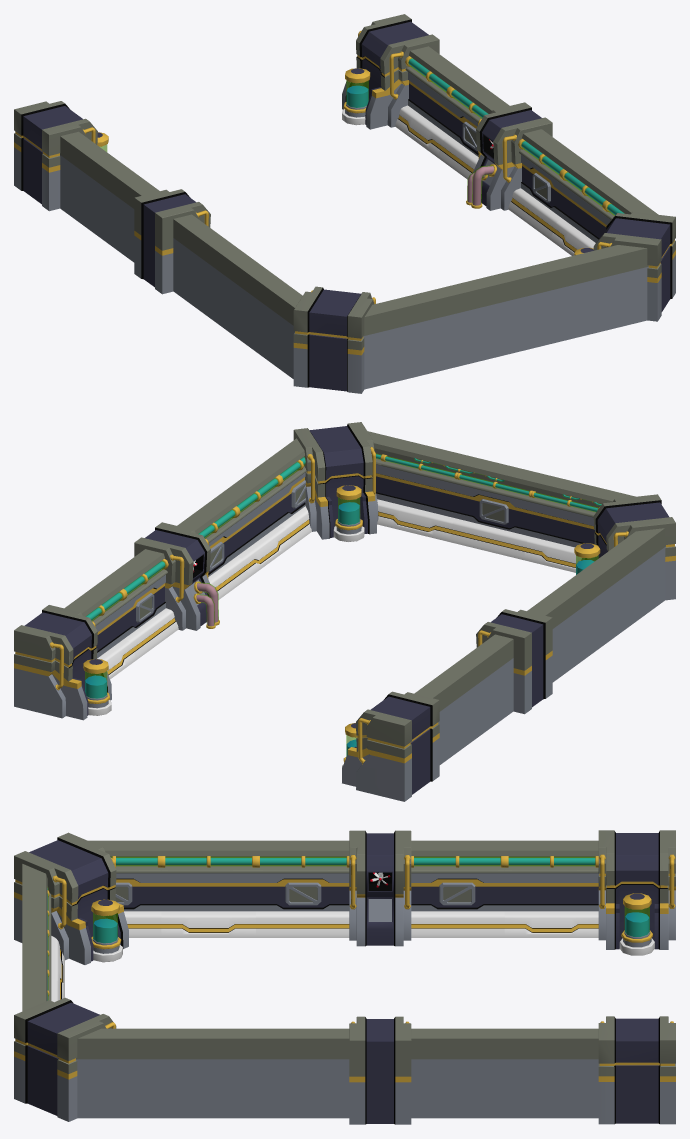
File: Level12.fbx
The picture shows the model from 3 angles, top to bottom: view 1: azimuth 30°, elevation 25°; view 2: azimuth 150°, elevation 25°; view 3: azimuth 270°, elevation 25°; orthographic projection. The views are drawn at different scales.
Visible parts, largest first — view 1: Base (×21), Bottle, Pipe1; view 2: Base (×20), Bottle (×2), Cage; view 3: Base (×19), Pipe1 (×5), Bottle (×2), Cage (×2).
Boxes of the visible parts, x1,y1,x2,y2 form: Base (×21): [14, 14, 675, 393]; Bottle: [342, 68, 370, 125]; Pipe1: [471, 164, 496, 208]; Base (×20): [14, 422, 675, 801]; Bottle (×2): [83, 485, 364, 715]; Cage: [479, 499, 508, 524]; Base (×19): [14, 830, 675, 1124]; Pipe1 (×5): [111, 856, 598, 867]; Bottle (×2): [91, 893, 654, 962]; Cage (×2): [285, 882, 475, 905].
Bounding box in the file's own units: 385 × 73.12 × 513.
